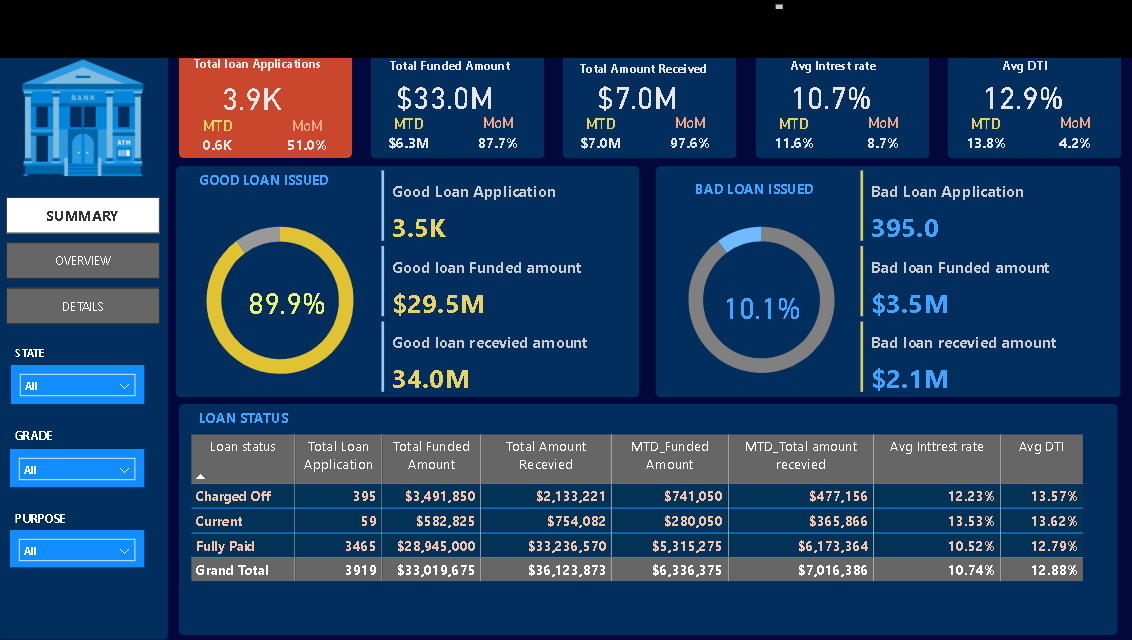

The dashboard page shown, as its layout file describes it:
{"tool":"powerbi","page":{"name":"SUMMARY","canvas":[1280,720],"ordinal":0},"visuals":[{"type":"shape","box":[0,45,191.5,674.7],"z":0},{"type":"shape","box":[419,60.9,195,117.5],"z":0,"group":"g1"},{"type":"shape","box":[851.9,60.9,195,117.5],"z":0,"group":"g4"},{"type":"shape","box":[1067.8,60.9,195,117.5],"z":0,"group":"g5"},{"type":"shape","box":[634.8,61.1,195,117.5],"z":0,"group":"g3"},{"type":"card","fields":{"Values":["Table.Total Funded Amount"]},"box":[435.2,80,135,54],"z":1000,"group":"g1"},{"type":"card","fields":{"Values":["Table.Avg Inttrest rate"]},"box":[868.1,80,135,54],"z":1000,"group":"g4"},{"type":"card","fields":{"Values":["Table.Avg DTI"]},"box":[1084,80,135,54],"z":1000,"group":"g5"},{"type":"card","fields":{"Values":["Table.MTD_Total_amount_recevied"]},"box":[651,80.3,135,54],"z":1000,"group":"g3"},{"type":"shape","box":[200.3,186.9,521.5,260.2],"z":1000},{"type":"shape","box":[0,0,1280,55.3],"z":2000},{"type":"textbox","box":[426.2,59.8,164.2,34.9],"z":2000,"group":"g1"},{"type":"textbox","box":[859.1,59.8,164.2,34.9],"z":2000,"group":"g4"},{"type":"textbox","box":[1075,59.8,164.2,34.9],"z":2000,"group":"g5"},{"type":"textbox","box":[643.3,63.4,166.1,31.8],"z":2000,"group":"g3"},{"type":"shape","box":[204,59.9,194.6,117],"z":3000,"group":"g2"},{"type":"card","title":"MTD","fields":{"Values":["Table.Total_Funded_Amount"]},"box":[415,129.8,93.8,45],"z":3000,"group":"g1"},{"type":"card","title":"MTD","fields":{"Values":["Table.MTD_avg_intrestrate"]},"box":[847.9,129.8,93.8,45],"z":3000,"group":"g4"},{"type":"card","title":"MTD","fields":{"Values":["Table.MTD AVG DTI"]},"box":[1063.8,129.8,93.8,45],"z":3000,"group":"g5"},{"type":"card","title":"MTD","fields":{"Values":["Table.MTD_Total_amount_recevied"]},"box":[630.8,130,93.8,45],"z":3000,"group":"g3"},{"type":"card","fields":{"Values":["Table.Good loan %"]},"box":[264.4,311.1,121.1,53.3],"z":3000},{"type":"textbox","box":[322.6,0,565.5,45],"z":4000},{"type":"card","fields":{"Values":["Table.Total_Application"]},"box":[218.6,80.1,135,54],"z":4000,"group":"g2"},{"type":"card","title":"MoM","fields":{"Values":["Table.Mom Total funded Amount"]},"box":[514,128.4,97.5,48.8],"z":4000,"group":"g1"},{"type":"card","title":"MoM","fields":{"Values":["Table.Mom AVg int rate"]},"box":[946.9,128.4,97.5,48.8],"z":4000,"group":"g4"},{"type":"card","title":"MoM","fields":{"Values":["Table.Mom AVg DTI"]},"box":[1162.8,128.4,97.5,48.8],"z":4000,"group":"g5"},{"type":"card","title":"MoM","fields":{"Values":["Table.Mom Total Amount recevied"]},"box":[729.8,128.6,97.5,48.8],"z":4000,"group":"g3"},{"type":"textbox","box":[209.6,57,165.6,30],"z":5000,"group":"g2"},{"type":"group","id":"g1","title":"Group 1","box":[415,59.8,199.1,119.7],"z":5000},{"type":"card","title":"MTD","fields":{"Values":["Table.MTD Loan_ application"]},"box":[204.1,131,87.5,46.2],"z":6000,"group":"g2"},{"type":"textbox","box":[203.6,186.8,196.9,42.8],"z":6000},{"type":"group","id":"g2","title":"Group 2","box":[204,57,194.6,120.2],"z":7000},{"type":"card","title":"MoM","fields":{"Values":["Table.MoM loan Application"]},"box":[301.6,131,92.5,46.2],"z":7000,"group":"g2"},{"type":"group","id":"g3","title":"Group 1","box":[630.8,61.1,200.3,117.3],"z":8000},{"type":"group","id":"g4","title":"Group 1","box":[847.9,59.8,199.1,118.5],"z":9000},{"type":"group","id":"g5","title":"Group 1","box":[1063.8,59.8,199.1,118.5],"z":10000},{"type":"shape","box":[740.2,186.9,522.7,260.2],"z":11000},{"type":"donutChart","fields":{"Category":["Bank_loan_data.Good Loan vs Bad Loan"],"Y":["Table.Total_Application"]},"box":[204,229.7,227.3,216.8],"z":12000},{"type":"cardVisual","fields":{"Data":["Table.Good Loan Application","Table.Good Funded amount","Table.Good loan recevied amount"]},"box":[426.7,186.5,291.4,260],"z":13000},{"type":"donutChart","fields":{"Category":["Bank_loan_data.Good Loan vs Bad Loan"],"Y":["Table.Total_Application"]},"box":[746.1,229.7,226.2,215.7],"z":14000},{"type":"textbox","box":[754.2,197,194.7,32.6],"z":15000},{"type":"card","fields":{"Values":["Table.Bad loan %"]},"box":[798.5,317.1,121.2,53.6],"z":16000},{"type":"shape","box":[204,454.6,1056.2,260],"z":17000},{"type":"cardVisual","fields":{"Data":["Table.Bad Loan Application","Table.Bad Funded amount","Table.Bad loan recevied amount"]},"box":[965.2,186.5,291.4,260],"z":18000},{"type":"tableEx","fields":{"Values":["Bank_loan_data.loan_status","Table.Total_Application","Table.Total Funded Amount","Table.Total Amount Recevied","Table.MTD_Funded_Amount","Table.MTD_Total_amount_recevied","Table.Avg Inttrest rate","Table.Avg DTI"]},"box":[211,483.8,1045.7,225],"z":19000},{"type":"textbox","box":[216.8,454.6,198.2,42],"z":20000},{"type":"slicer","fields":{"Values":["Bank_loan_data.address_state"]},"box":[14.6,410.6,149.6,43.9],"z":21000},{"type":"textbox","box":[14.6,382.5,81,28.1],"z":22000},{"type":"slicer","fields":{"Values":["Bank_loan_data.grade"]},"box":[13.5,505.1,150.8,42.8],"z":23000},{"type":"textbox","box":[14.6,475.9,108,29.2],"z":24000},{"type":"slicer","fields":{"Values":["Bank_loan_data.purpose"]},"box":[13.5,596.2,150.8,41.6],"z":25000},{"type":"textbox","box":[14.6,569.2,83.2,27],"z":26000},{"type":"pageNavigator","box":[8.9,221.1,173.3,143.3],"z":27000},{"type":"image","box":[9,55.1,173.2,160.9],"z":27001}]}

Visuals, with their boxes in screenshot pixels (x1, y1, x2, y2), scaled from the page's 1280x720 canvas onto the 1132x640 screenshot:
shape: bbox=(0, 40, 169, 639)
shape: bbox=(371, 54, 543, 159)
shape: bbox=(753, 54, 926, 159)
shape: bbox=(944, 54, 1117, 159)
shape: bbox=(561, 54, 734, 159)
card - Table.Total Funded Amount: bbox=(385, 71, 504, 119)
card - Table.Avg Inttrest rate: bbox=(768, 71, 887, 119)
card - Table.Avg DTI: bbox=(959, 71, 1078, 119)
card - Table.MTD_Total_amount_recevied: bbox=(576, 71, 695, 119)
shape: bbox=(177, 166, 638, 397)
shape: bbox=(0, 0, 1131, 49)
textbox: bbox=(377, 53, 522, 84)
textbox: bbox=(760, 53, 905, 84)
textbox: bbox=(951, 53, 1096, 84)
textbox: bbox=(569, 56, 716, 85)
shape: bbox=(180, 53, 353, 157)
"MTD" card: bbox=(367, 115, 450, 155)
"MTD" card: bbox=(750, 115, 833, 155)
"MTD" card: bbox=(941, 115, 1024, 155)
"MTD" card: bbox=(558, 116, 641, 156)
card - Table.Good loan %: bbox=(234, 277, 341, 324)
textbox: bbox=(285, 0, 785, 40)
card - Table.Total_Application: bbox=(193, 71, 313, 119)
"MoM" card: bbox=(455, 114, 541, 158)
"MoM" card: bbox=(837, 114, 924, 158)
"MoM" card: bbox=(1028, 114, 1115, 158)
"MoM" card: bbox=(645, 114, 732, 158)
textbox: bbox=(185, 51, 332, 77)
"Group 1" group: bbox=(367, 53, 543, 160)
"MTD" card: bbox=(181, 116, 258, 158)
textbox: bbox=(180, 166, 354, 204)
"Group 2" group: bbox=(180, 51, 353, 158)
"MoM" card: bbox=(267, 116, 349, 158)
"Group 1" group: bbox=(558, 54, 735, 159)
"Group 1" group: bbox=(750, 53, 926, 158)
"Group 1" group: bbox=(941, 53, 1117, 158)
shape: bbox=(655, 166, 1117, 397)
donutChart - Bank_loan_data.Good Loan vs Bad Loan x Table.Total_Application: bbox=(180, 204, 381, 397)
cardVisual - Table.Good Loan Application x Table.Good Funded amount: bbox=(377, 166, 635, 397)
donutChart - Bank_loan_data.Good Loan vs Bad Loan x Table.Total_Application: bbox=(660, 204, 860, 396)
textbox: bbox=(667, 175, 839, 204)
card - Table.Bad loan %: bbox=(706, 282, 813, 330)
shape: bbox=(180, 404, 1114, 635)
cardVisual - Table.Bad Loan Application x Table.Bad Funded amount: bbox=(854, 166, 1111, 397)
tableEx - Bank_loan_data.loan_status x Table.Total_Application: bbox=(187, 430, 1111, 630)
textbox: bbox=(192, 404, 367, 441)
slicer - Bank_loan_data.address_state: bbox=(13, 365, 145, 404)
textbox: bbox=(13, 340, 85, 365)
slicer - Bank_loan_data.grade: bbox=(12, 449, 145, 487)
textbox: bbox=(13, 423, 108, 449)
slicer - Bank_loan_data.purpose: bbox=(12, 530, 145, 567)
textbox: bbox=(13, 506, 86, 530)
pageNavigator: bbox=(8, 197, 161, 324)
image: bbox=(8, 49, 161, 192)
